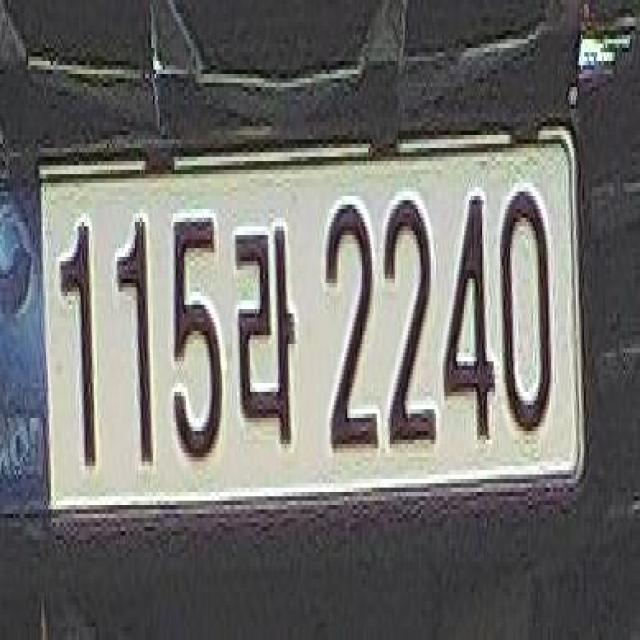illegal_plate: (14, 123, 592, 533)
